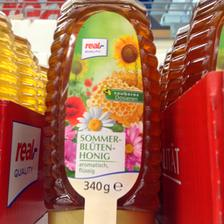Honig: (40, 0, 152, 222)
